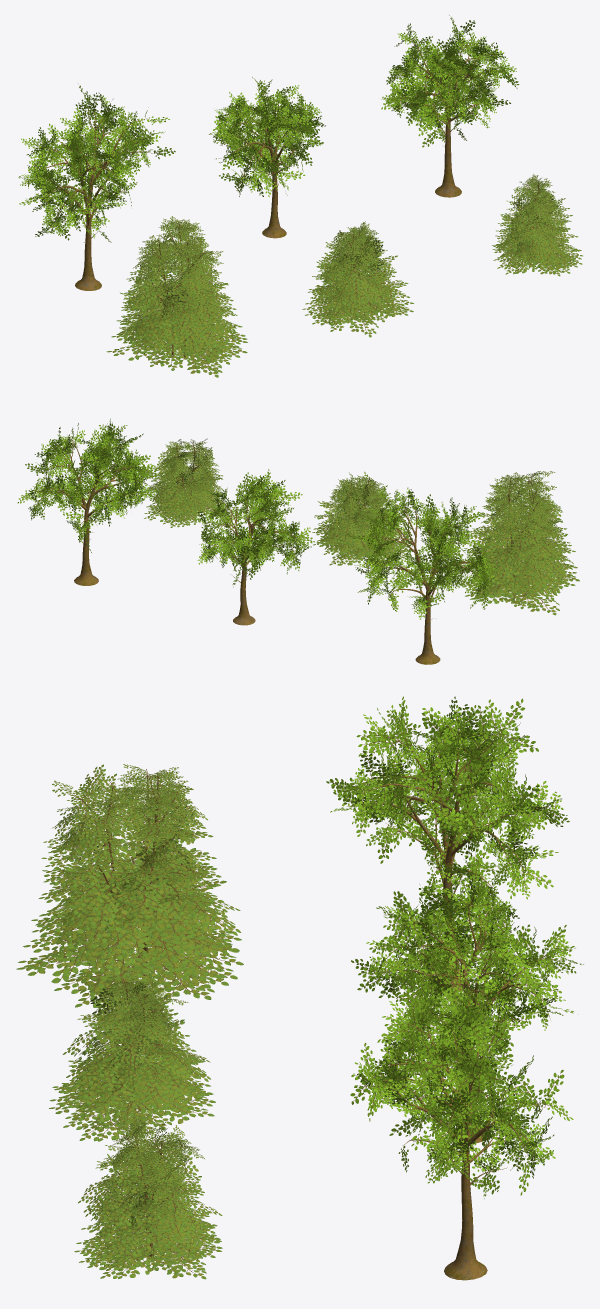
Rendered from flora04.glb.
3 renders of one model, top to bottom at view 1: azimuth 30°, elevation 25°; view 2: azimuth 150°, elevation 25°; view 3: azimuth 270°, elevation 25°, orthographic. The views are drawn at different scales.
Visible parts, largest first — view 1: Tree1_Baked_Branch_Bake1_baked_0, Bush1_Baked_BushPlane_Bake1_baked_0, Tree1_Baked_Tree1_Bake1_baked_0, Tree3_Baked_Tree3_Bake1_baked_0, Tree2_Baked_Tree2_Bake1_baked_0; view 2: Tree1_Baked_Branch_Bake1_baked_0, Bush1_Baked_BushPlane_Bake1_baked_0, Tree1_Baked_Tree1_Bake1_baked_0, Tree3_Baked_Tree3_Bake1_baked_0, Tree2_Baked_Tree2_Bake1_baked_0; view 3: Tree1_Baked_Branch_Bake1_baked_0, Bush1_Baked_BushPlane_Bake1_baked_0, Tree3_Baked_Tree3_Bake1_baked_0, Tree1_Baked_Tree1_Bake1_baked_0, Tree2_Baked_Tree2_Bake1_baked_0.
Boxes of the visible parts, x1,y1,x2,y2 form: Tree1_Baked_Branch_Bake1_baked_0: [18, 15, 519, 242]; Bush1_Baked_BushPlane_Bake1_baked_0: [106, 174, 582, 377]; Tree1_Baked_Tree1_Bake1_baked_0: [28, 105, 152, 290]; Tree3_Baked_Tree3_Bake1_baked_0: [396, 34, 499, 197]; Tree2_Baked_Tree2_Bake1_baked_0: [221, 94, 313, 238]; Tree1_Baked_Branch_Bake1_baked_0: [17, 418, 501, 619]; Bush1_Baked_BushPlane_Bake1_baked_0: [144, 438, 579, 615]; Tree1_Baked_Tree1_Bake1_baked_0: [367, 498, 483, 664]; Tree3_Baked_Tree3_Bake1_baked_0: [31, 435, 145, 585]; Tree2_Baked_Tree2_Bake1_baked_0: [201, 491, 297, 625]; Tree1_Baked_Branch_Bake1_baked_0: [326, 696, 583, 1198]; Bush1_Baked_BushPlane_Bake1_baked_0: [16, 764, 243, 1279]; Tree3_Baked_Tree3_Bake1_baked_0: [363, 1009, 545, 1280]; Tree1_Baked_Tree1_Bake1_baked_0: [347, 725, 555, 992]; Tree2_Baked_Tree2_Bake1_baked_0: [379, 896, 562, 1143].
Bounding box in the file's own units: 17.34 × 6.28 × 10.56.
8 materials, 8 textured.
